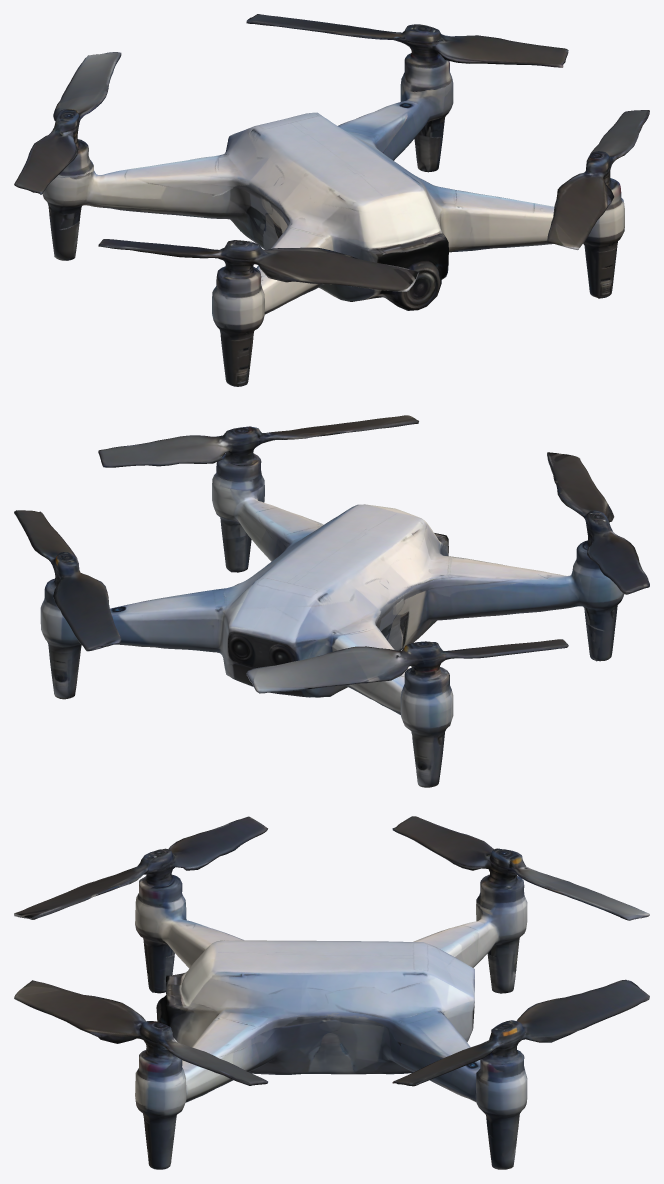
File: Low_Poly_drone_4_tan_0130115727_texture.fbx
3 renders of one model, top to bottom at view 1: azimuth 30°, elevation 25°; view 2: azimuth 150°, elevation 25°; view 3: azimuth 270°, elevation 25°, orthographic.
Parts seen in each view (by area): view 1: Mesh1_Mesh1.033; view 2: Mesh1_Mesh1.033; view 3: Mesh1_Mesh1.033.
Boxes of the visible parts, x1,y1,x2,y2 form: Mesh1_Mesh1.033: (14, 14, 649, 386); Mesh1_Mesh1.033: (14, 415, 649, 787); Mesh1_Mesh1.033: (14, 816, 649, 1169).
Size of the model in its own units: 199 by 48.13 by 199.
1 material, 1 textured.
